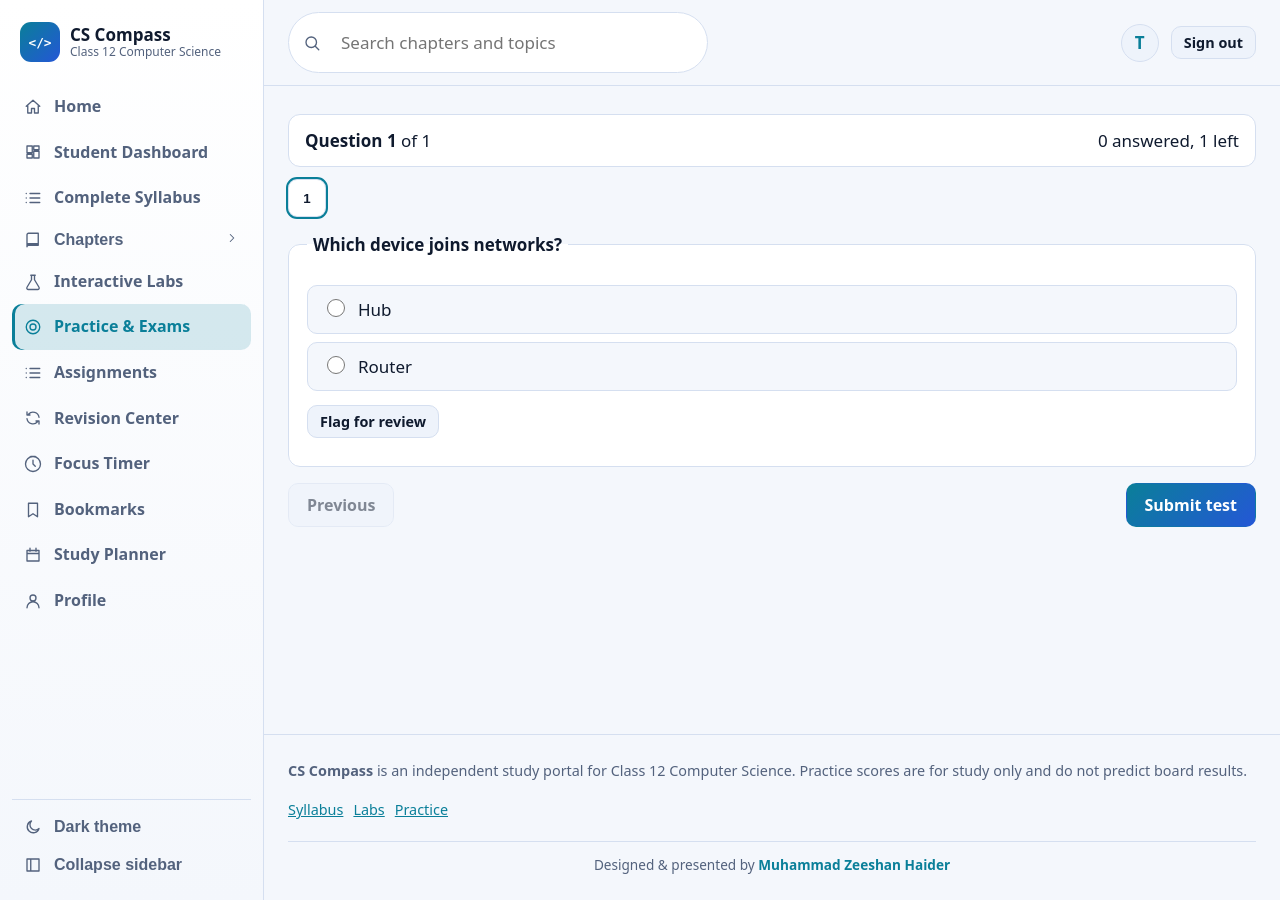
Scenario: protected pages › quiz session shows question navigator, flag and submit
Expected: the text "Which device joins networks?" is shown, [307,231,568,259]
Expected: the button "Flag for review" is shown, [307,405,439,438]
Click the radio button labelled "Router" at coordinates (336, 365), box [327,356,345,374]
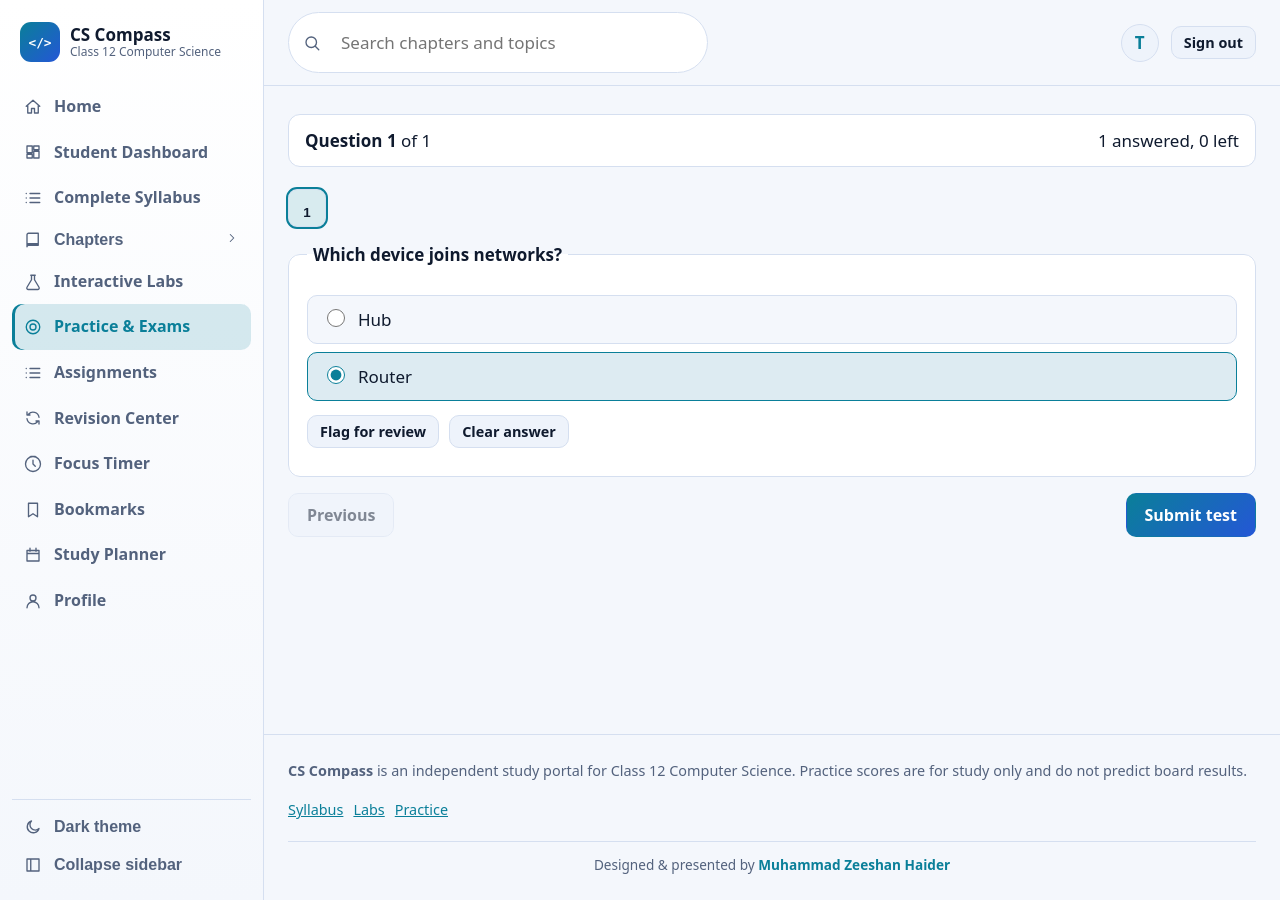
Expected: the text "1 answered, 0 left" is shown, [1098,127,1239,154]
